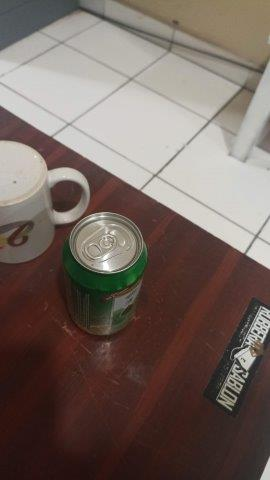kaleng: (64, 212, 149, 336)
